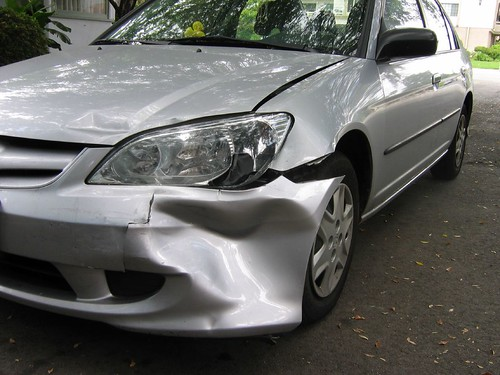car: (20, 1, 474, 338)
